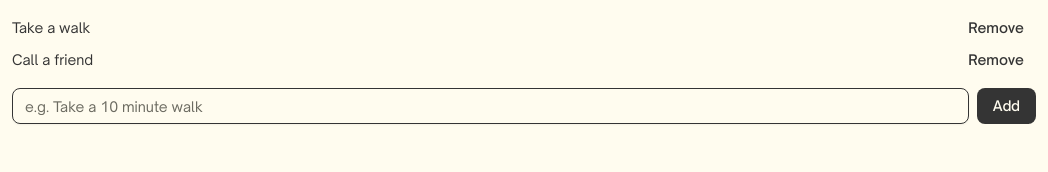
Test: RemovableList › removes a line the moment Remove is clicked
Step 1. Click the button "Remove" in the row of "Take a walk" → coordinates (996, 28), box [956,12,1036,44]
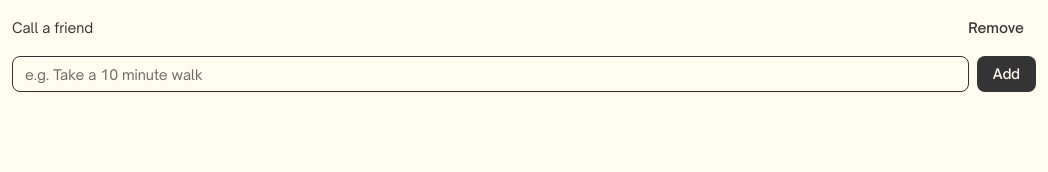
Expected: the text "Take a walk" is gone
